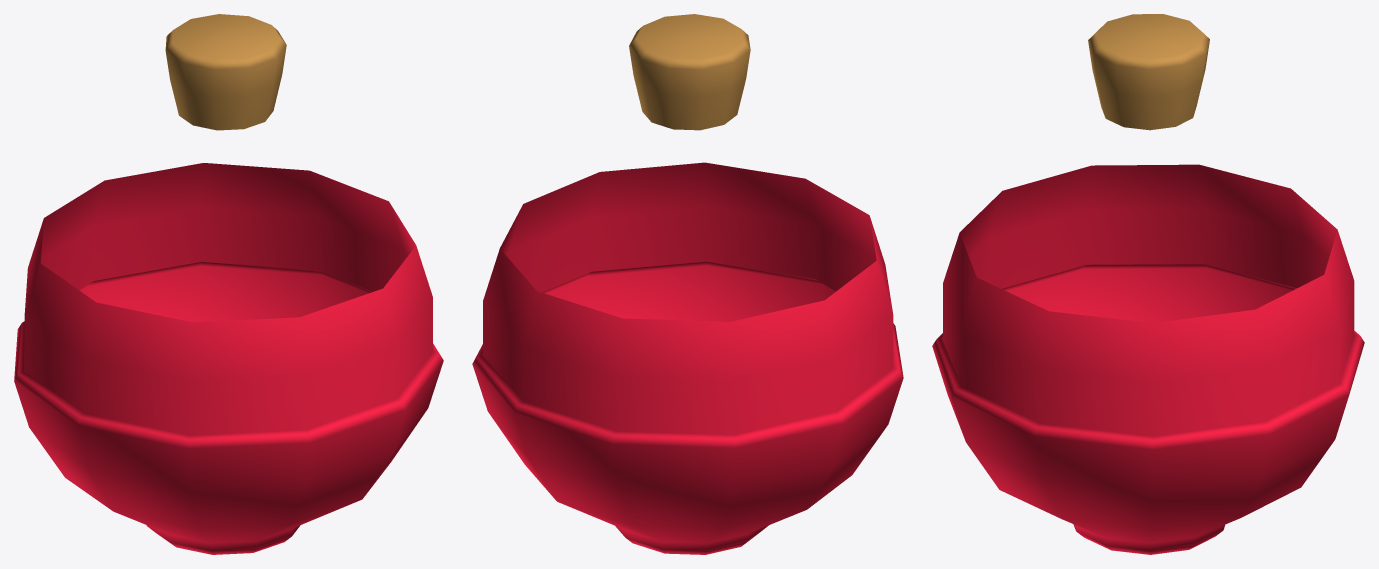
File: Pocion_1.fbx
The picture shows the model from 3 angles, left to right: view 1: azimuth 30°, elevation 25°; view 2: azimuth 150°, elevation 25°; view 3: azimuth 270°, elevation 25°; orthographic projection.
Visible parts, largest first — view 1: Pocion_1; view 2: Pocion_1; view 3: Pocion_1.
Boxes of the visible parts, x1,y1,x2,y2 form: Pocion_1: (14,14,443,554); Pocion_1: (472,14,903,554); Pocion_1: (932,14,1364,554).
Size of the model in its own units: 34.21 by 42.94 by 34.47.
Materials: 1 (1 with a texture image).
